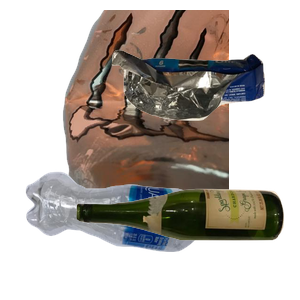glass: (74, 186, 300, 300)
metal: (60, 10, 300, 190)
plastic: (23, 169, 243, 300)
trash: (109, 47, 300, 160)
